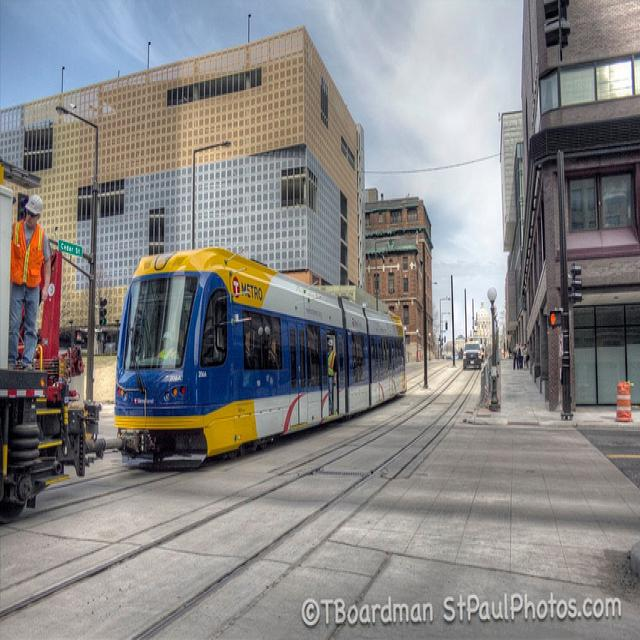Vehicle: (463, 344, 481, 371)
